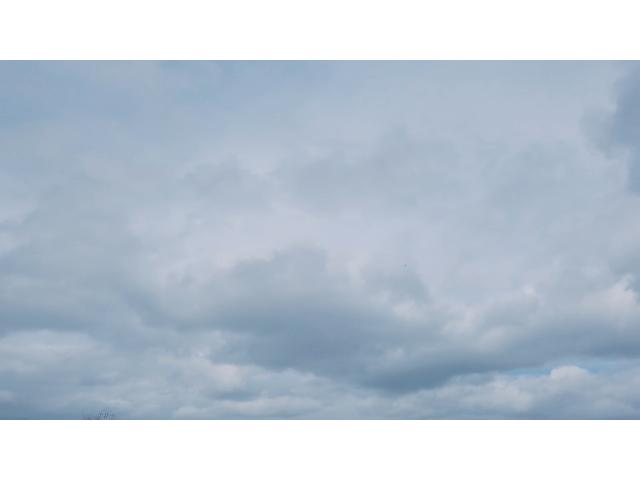Anti-Drone: (402, 260, 410, 272)
